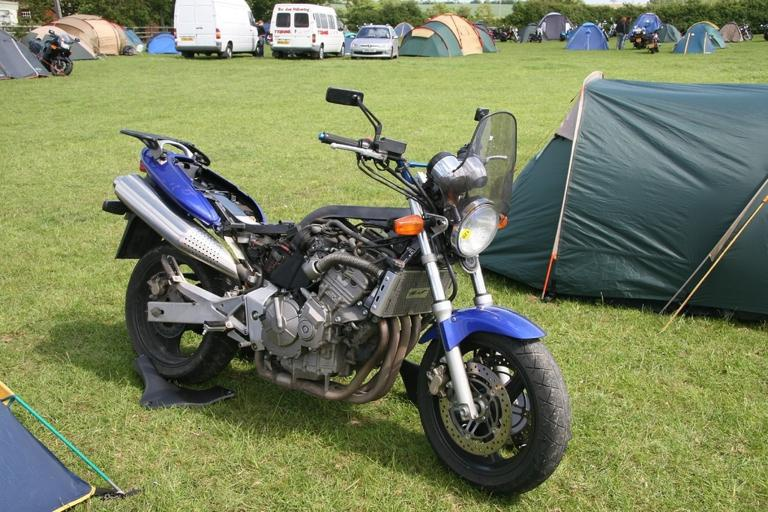non-vehicle: (98, 86, 569, 495), (28, 28, 80, 75), (646, 25, 662, 53), (499, 25, 521, 43), (629, 26, 645, 49), (740, 21, 752, 41), (529, 29, 543, 42), (558, 26, 571, 40), (761, 23, 767, 39)
